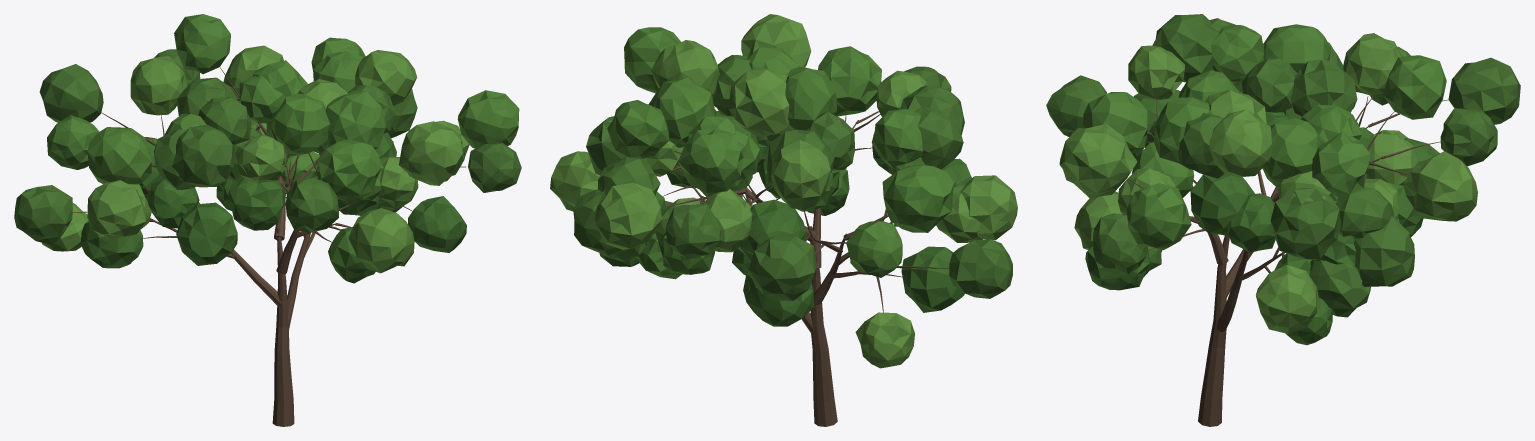
File: tree.glb
The picture shows the model from 3 angles, left to right: view 1: azimuth 30°, elevation 25°; view 2: azimuth 150°, elevation 25°; view 3: azimuth 270°, elevation 25°; orthographic projection. The views are drawn at different scales.
Visible parts, largest first — view 1: leaf10, leaf34, leaf17, leaf31, leaf41, leaf20, leaf27, leaf9, leaf30, leaf37, leaf19, leaf45 (+29 smaller); view 2: leaf17, leaf62, leaf27, leaf38, leaf61, leaf26, leaf19, leaf41, leaf16, leaf57, leaf13, leaf30 (+34 smaller); view 3: leaf10, leaf59, leaf62, leaf27, leaf58, leaf2, leaf9, leaf61, leaf3, leaf57, leaf55, leaf44 (+32 smaller).
Boxes of the visible parts, left/top/right/bottom form: leaf10: left=399, top=121, right=463, bottom=185; leaf34: left=348, top=208, right=414, bottom=273; leaf17: left=87, top=127, right=151, bottom=184; leaf31: left=172, top=124, right=235, bottom=187; leaf41: left=316, top=139, right=381, bottom=201; leaf20: left=176, top=202, right=237, bottom=265; leaf27: left=39, top=64, right=103, bottom=122; leaf9: left=457, top=90, right=519, bottom=148; leaf30: left=87, top=180, right=145, bottom=239; leaf37: left=271, top=94, right=329, bottom=154; leaf19: left=14, top=185, right=72, bottom=244; leaf45: left=326, top=91, right=386, bottom=149; leaf17: left=882, top=164, right=953, bottom=232; leaf62: left=594, top=182, right=662, bottom=249; leaf27: left=748, top=235, right=816, bottom=300; leaf38: left=728, top=67, right=789, bottom=138; leaf61: left=678, top=128, right=743, bottom=192; leaf26: left=771, top=140, right=831, bottom=209; leaf19: left=949, top=239, right=1012, bottom=298; leaf41: left=818, top=46, right=881, bottom=116; leaf16: left=901, top=246, right=964, bottom=312; leaf57: left=607, top=100, right=668, bottom=158; leaf13: left=648, top=77, right=715, bottom=147; leaf30: left=960, top=175, right=1017, bottom=240; leaf10: left=1059, top=124, right=1137, bottom=197; leaf59: left=1270, top=188, right=1340, bottom=259; leaf62: left=1403, top=151, right=1477, bottom=221; leaf27: left=1448, top=57, right=1520, bottom=124; leaf58: left=1209, top=109, right=1272, bottom=177; leaf2: left=1256, top=265, right=1320, bottom=333; leaf9: left=1126, top=183, right=1191, bottom=249; leaf61: left=1383, top=55, right=1446, bottom=119; leaf3: left=1354, top=216, right=1414, bottom=286; leaf57: left=1312, top=131, right=1370, bottom=197; leaf55: left=1291, top=59, right=1357, bottom=116; leaf44: left=1190, top=173, right=1254, bottom=235.
Size of the model in its own units: 7.25 by 5.35 by 6.22.
